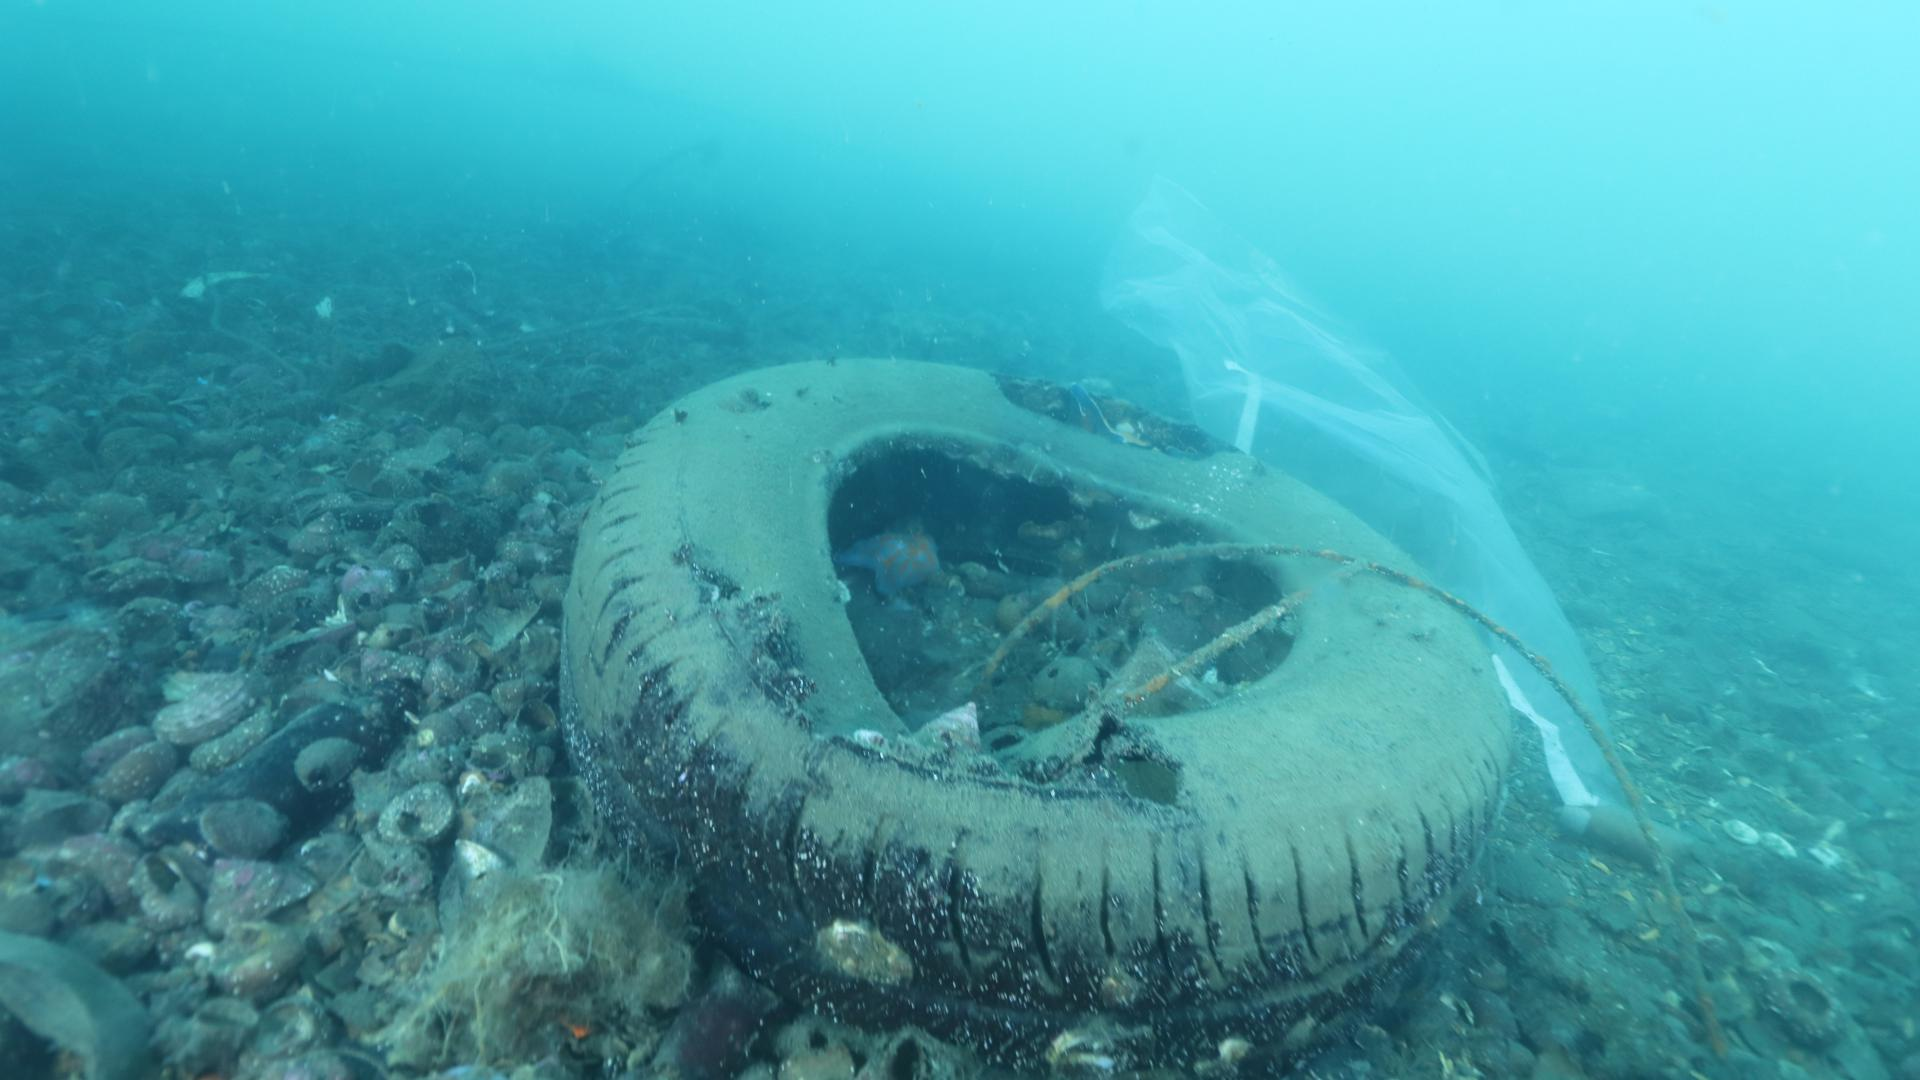tire: (553, 347, 1513, 1040)
